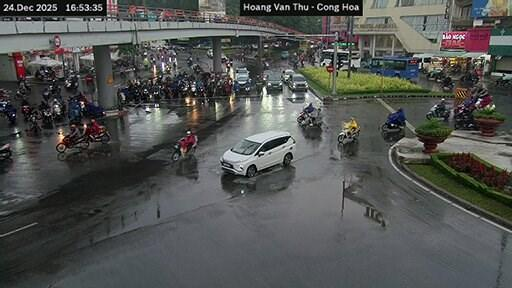motorbike: (56, 135, 88, 152), (336, 121, 358, 142), (380, 113, 405, 130), (297, 109, 322, 126), (85, 126, 109, 143), (425, 103, 448, 120), (454, 113, 477, 129), (170, 139, 185, 161), (83, 103, 105, 117), (28, 112, 41, 133), (474, 94, 493, 108), (34, 67, 54, 80), (495, 73, 511, 86), (51, 103, 63, 120), (64, 77, 77, 90), (22, 104, 32, 120), (41, 108, 50, 125), (184, 144, 195, 157), (0, 144, 10, 158), (48, 82, 59, 94), (6, 111, 15, 124), (41, 88, 50, 100), (441, 81, 453, 90), (0, 89, 9, 99), (16, 89, 25, 99), (141, 88, 149, 99), (243, 82, 249, 94)
